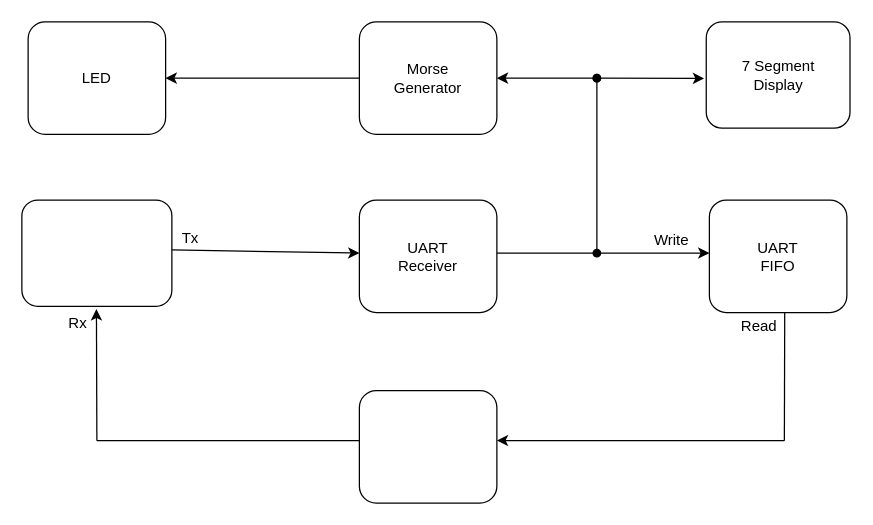
This 873x525 diagram has some shape labels left out. The shapes that lost their labels are listed below. From the top down, each one's box as (x1, y1, x2, y2) in pixels, then its label:
(21, 199, 172, 306): PC
(358, 389, 497, 503): UART Transmitter
